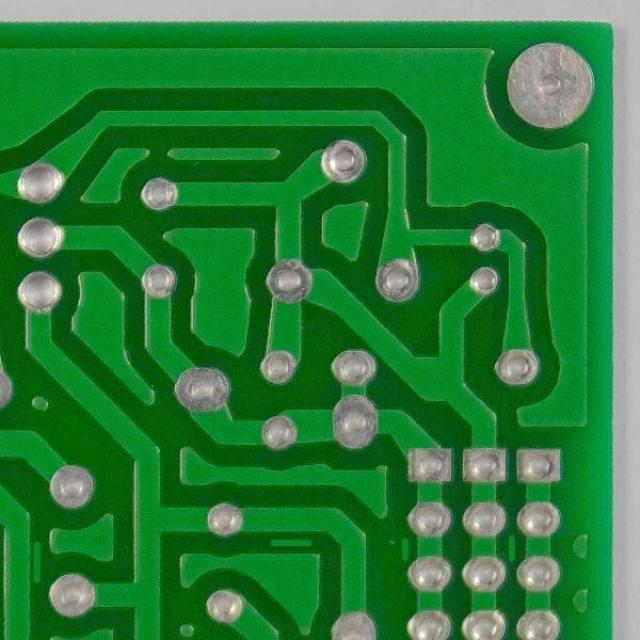Spurious_Cooper: (264, 534, 317, 550), (30, 536, 46, 588), (502, 528, 520, 566), (397, 534, 412, 566)
